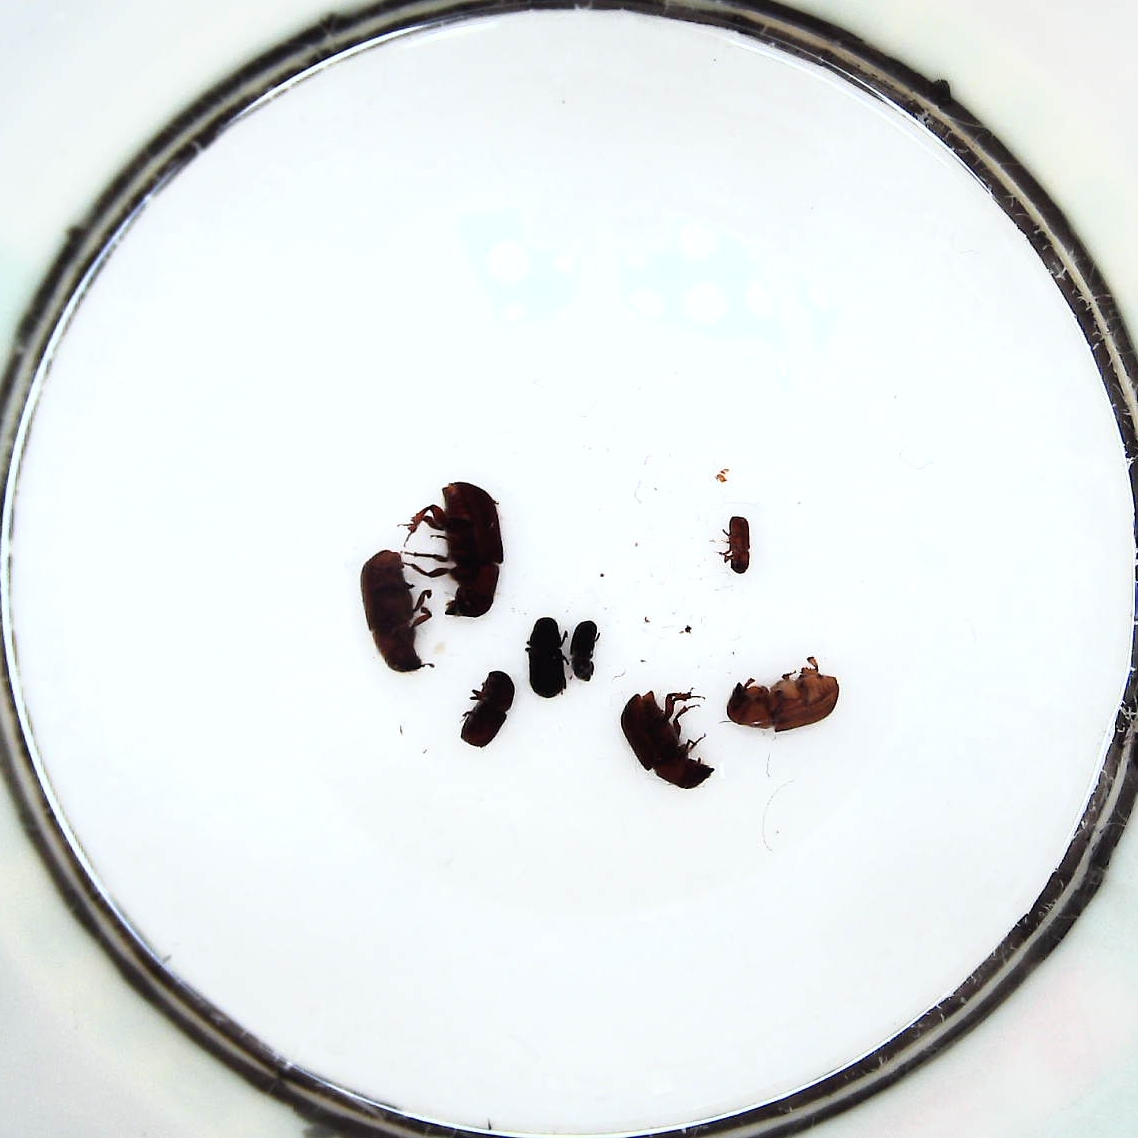Leconte: (409, 481, 508, 618), (621, 690, 720, 789), (358, 551, 439, 672), (725, 659, 841, 736)
Linnaeus: (461, 672, 518, 751)
acuminatus: (717, 512, 754, 584)
armandi: (528, 612, 572, 699)
coleoptera: (571, 617, 603, 684)
